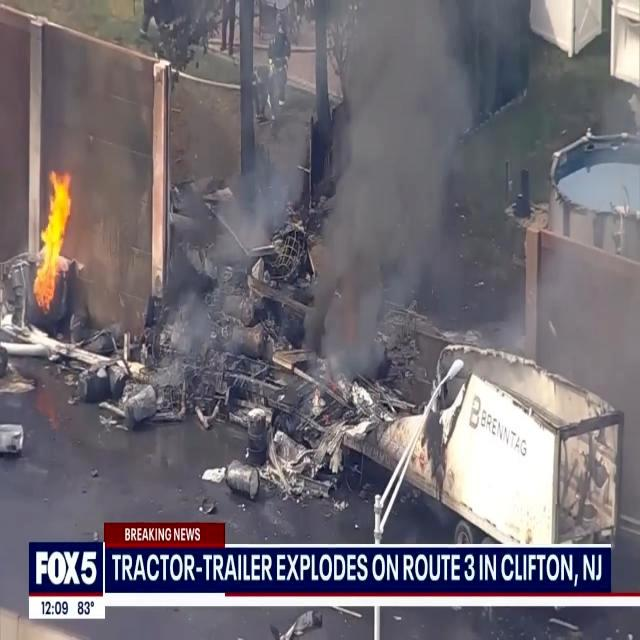fire: (30, 152, 78, 312)
